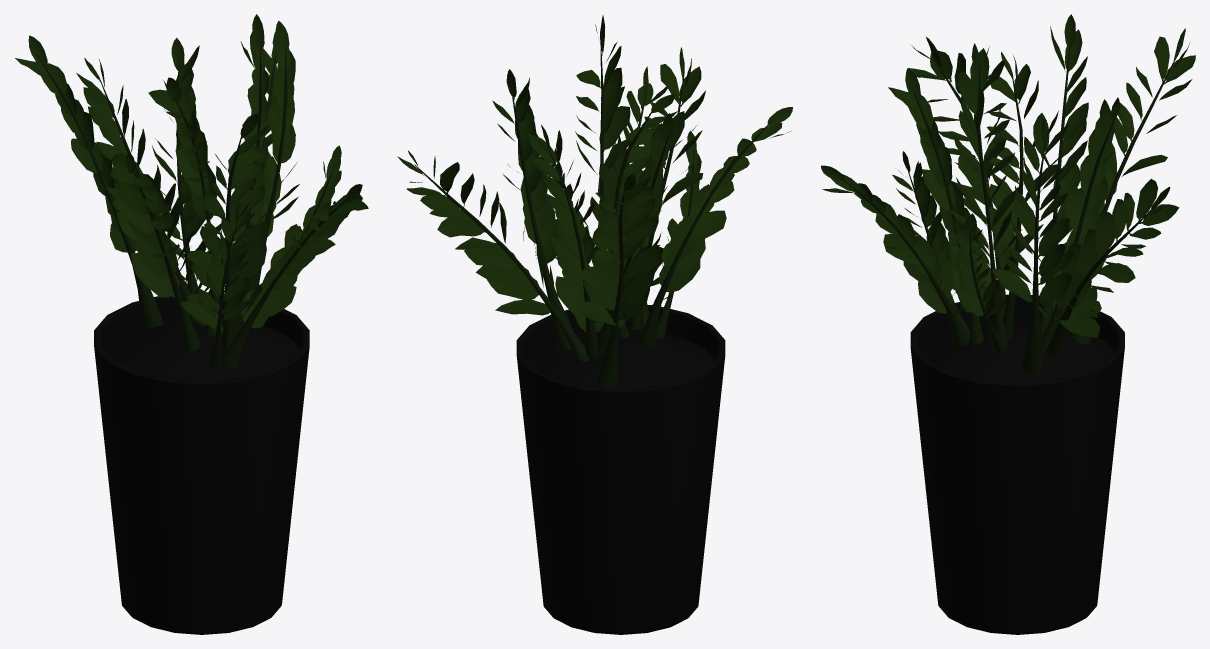
File: Plant02.FBX
3 views of the same model, side by side, from view 1: azimuth 30°, elevation 25°; view 2: azimuth 150°, elevation 25°; view 3: azimuth 270°, elevation 25° (orthographic). The views are drawn at different scales.
Parts seen in each view (by area): view 1: Pot, Trunk09, Trunk08, Trunk10, Trunk06, Trunk01, Trunk05, Trunk02, Trunk03, Trunk11, Trunk00, Trunk04 (+1 smaller); view 2: Pot, Trunk06, Trunk07, Trunk08, Trunk11, Trunk01, Trunk00, Trunk05, Trunk09, Trunk02, Trunk03, Trunk10 (+1 smaller); view 3: Pot, Trunk01, Trunk07, Trunk00, Trunk10, Trunk09, Trunk02, Trunk11, Trunk06, Trunk05, Trunk08, Trunk04 (+1 smaller).
Part boxes in pixels (x1,y1,x2,y2): Pot: (94, 292, 309, 634); Trunk09: (180, 113, 270, 352); Trunk08: (110, 153, 200, 352); Trunk10: (222, 184, 368, 368); Trunk06: (15, 35, 163, 331); Trunk01: (239, 20, 299, 328); Trunk05: (76, 57, 206, 326); Trunk02: (148, 77, 221, 335); Trunk03: (198, 200, 254, 368); Trunk11: (152, 38, 226, 294); Trunk00: (222, 14, 269, 337); Trunk04: (239, 145, 341, 331); Pot: (516, 305, 725, 634); Trunk06: (576, 173, 663, 388); Trunk07: (397, 150, 589, 361); Trunk08: (638, 107, 792, 347); Trunk11: (528, 124, 609, 360); Trunk01: (492, 69, 574, 350); Trunk00: (575, 15, 630, 328); Trunk05: (597, 111, 684, 357); Trunk09: (628, 47, 705, 329); Trunk02: (590, 94, 677, 338); Trunk03: (656, 131, 701, 338); Trunk10: (615, 66, 667, 329); Pot: (910, 294, 1124, 634); Trunk01: (991, 111, 1074, 374); Trunk07: (1045, 179, 1179, 357); Trunk00: (948, 43, 1022, 347); Trunk10: (821, 165, 969, 347); Trunk09: (888, 68, 992, 345); Trunk02: (985, 52, 1059, 338); Trunk11: (1030, 97, 1125, 351); Trunk06: (1070, 28, 1195, 344); Trunk05: (1027, 14, 1088, 338); Trunk08: (908, 37, 1043, 326); Trunk04: (954, 213, 1006, 353).
Bounding box in the file's own units: 47.04 × 52.74 × 90.73.
